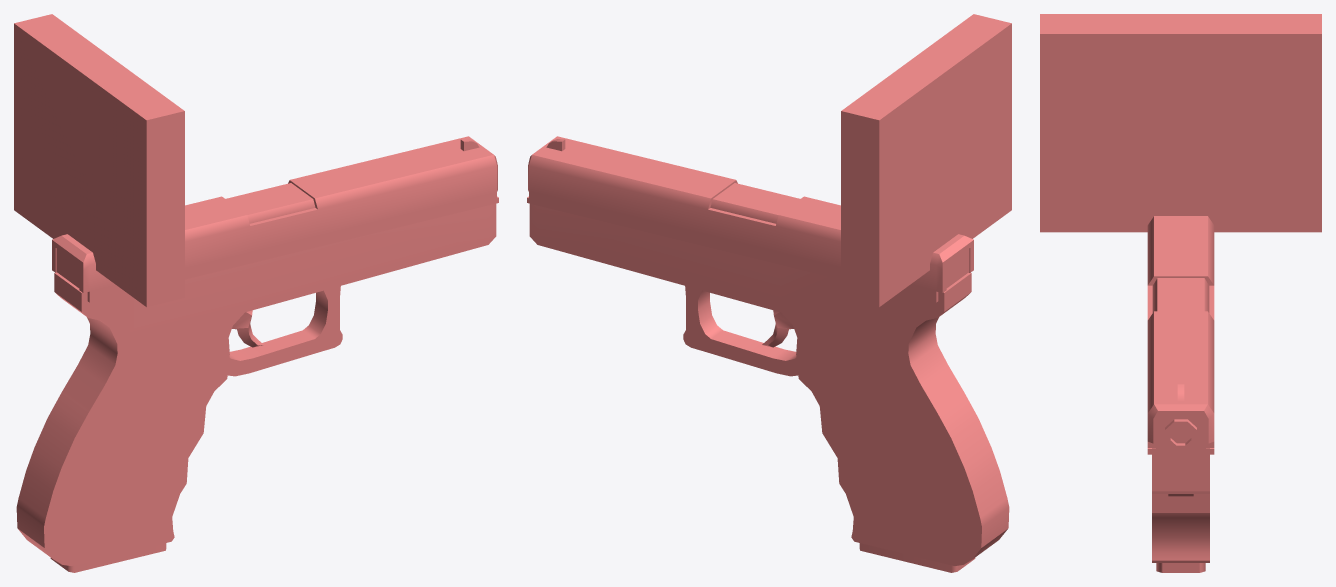
Rendered from DeleteTool.obj.
3 views of the same model, side by side, from view 1: azimuth 30°, elevation 25°; view 2: azimuth 150°, elevation 25°; view 3: azimuth 270°, elevation 25° (orthographic). The views are drawn at different scales.
Parts seen in each view (by area): view 1: Handle, Display; view 2: Handle, Display; view 3: Display, Handle.
Part boxes in pixels (bbox=[...]): Handle: bbox=[16, 136, 498, 572]; Display: bbox=[14, 14, 184, 307]; Handle: bbox=[527, 136, 1009, 572]; Display: bbox=[841, 14, 1011, 307]; Display: bbox=[1040, 14, 1321, 232]; Handle: bbox=[1147, 216, 1214, 572].
Bounding box in the file's own units: 0.7168 × 0.7318 × 0.36.
